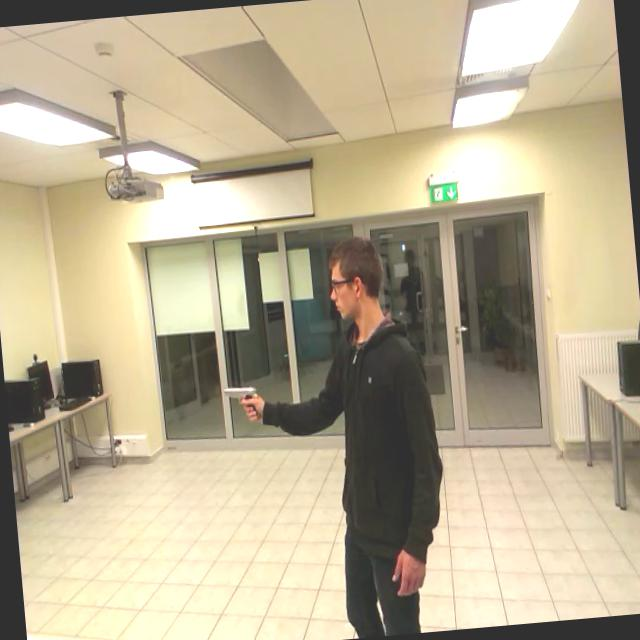handgun: (214, 372, 270, 436)
